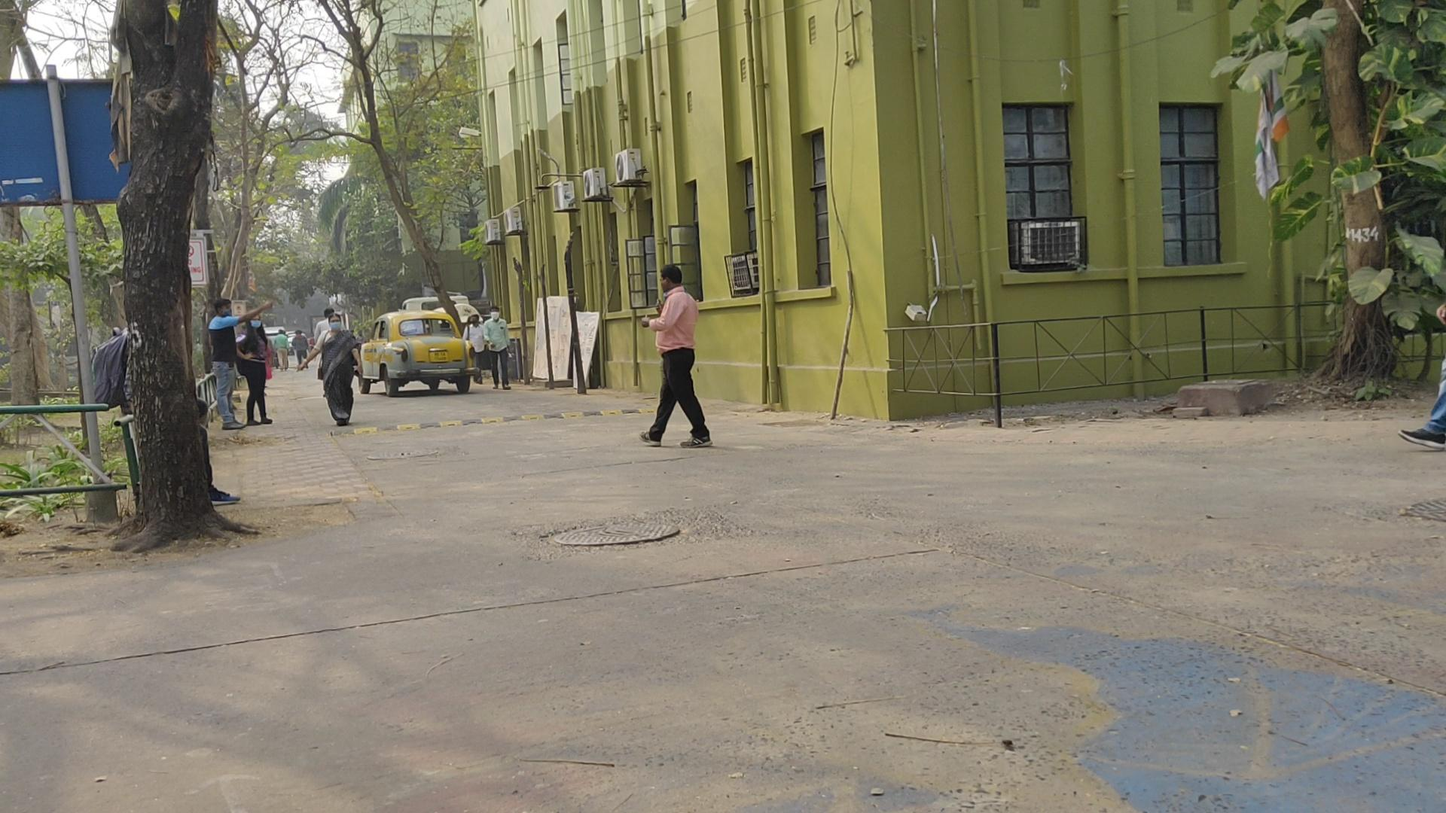car: (356, 309, 478, 397)
